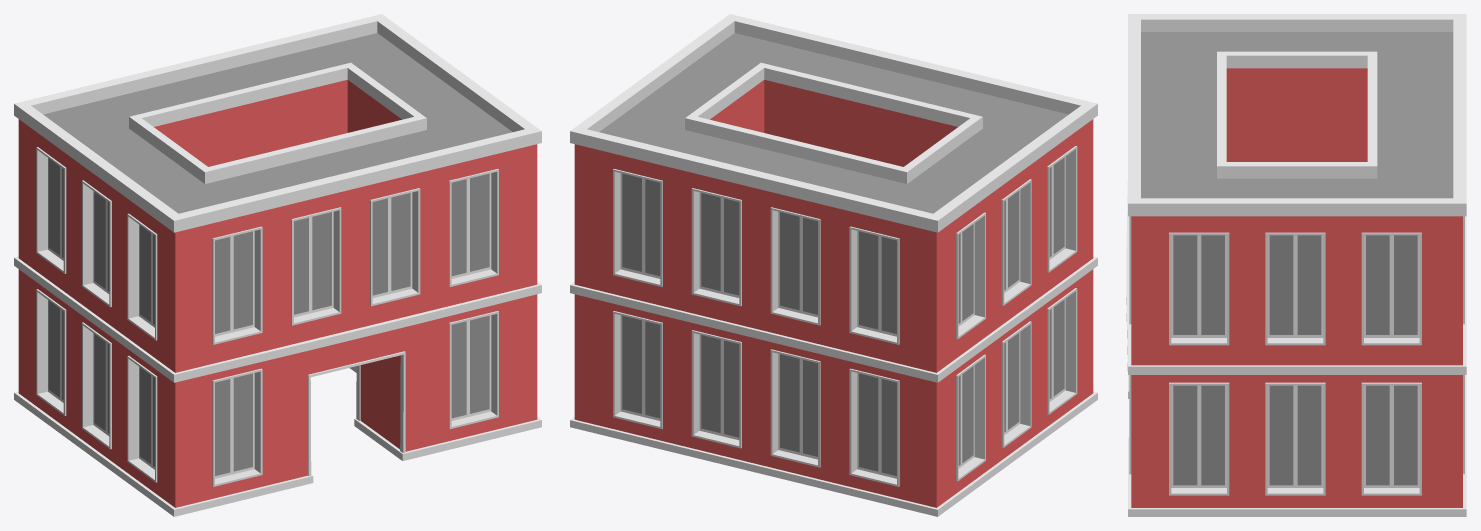
Rendered from SM_House_22_02.FBX.
3 renders of one model, left to right at view 1: azimuth 30°, elevation 25°; view 2: azimuth 150°, elevation 25°; view 3: azimuth 270°, elevation 25°, orthographic. The views are drawn at different scales.
Visible parts, largest first — view 1: SM_House_22_02; view 2: SM_House_22_02; view 3: SM_House_22_02.
Boxes of the visible parts, x1,y1,x2,y2 form: SM_House_22_02: (14,14,541,516); SM_House_22_02: (570,14,1097,516); SM_House_22_02: (1126,14,1466,516).
Size of the model in its own units: 8.12 by 6.25 by 6.15.
1 material, 1 textured.
